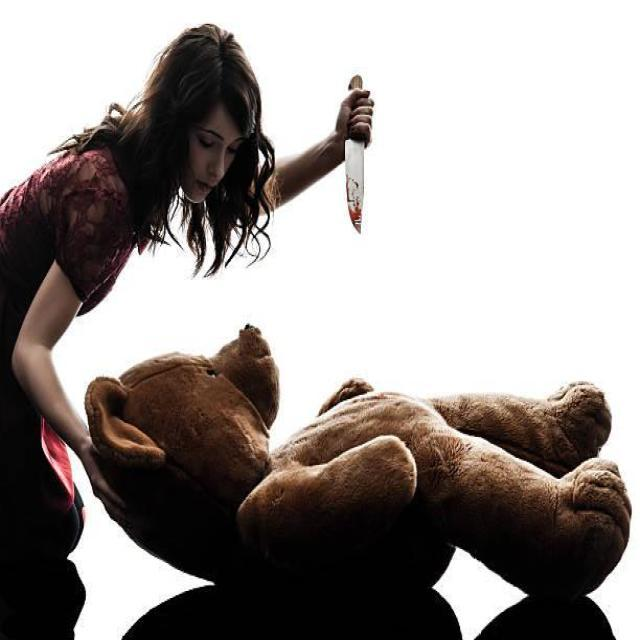faca: (311, 65, 403, 253)
